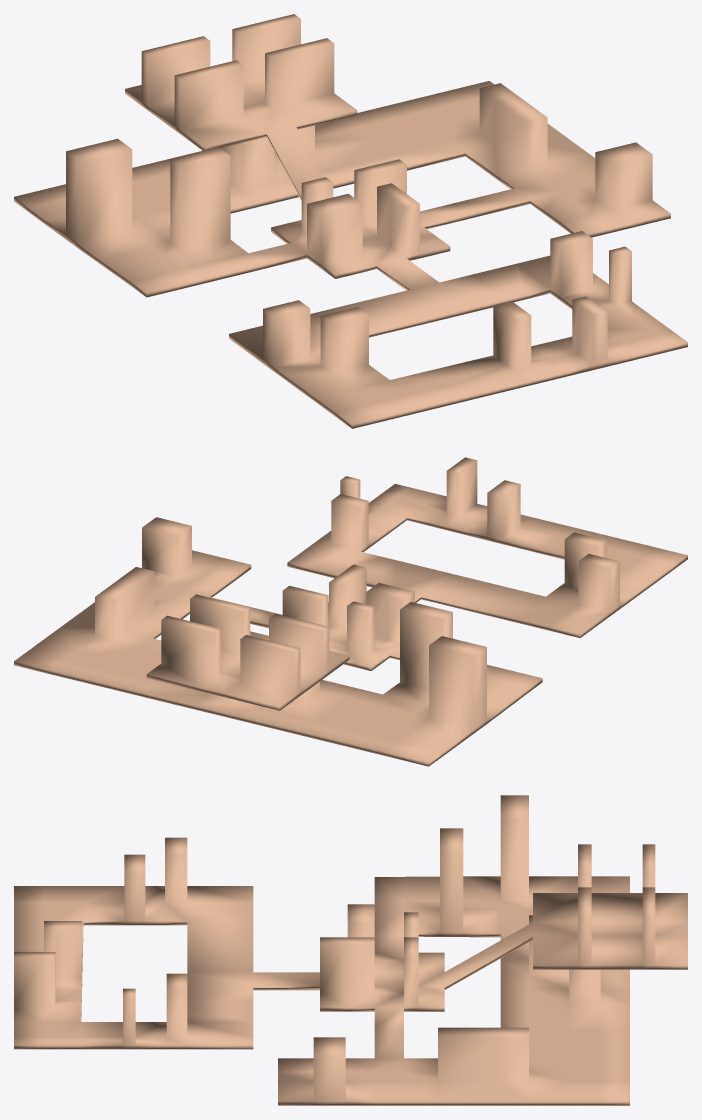
File: Level1.obj
The picture shows the model from 3 angles, top to bottom: view 1: azimuth 30°, elevation 25°; view 2: azimuth 150°, elevation 25°; view 3: azimuth 270°, elevation 25°; orthographic projection. The views are drawn at different scales.
Parts seen in each view (by area): view 1: Box001; view 2: Box001; view 3: Box001.
Part boxes in pixels (x1=…): Box001: x1=14, y1=14, x2=687, y2=428; Box001: x1=14, y1=457, x2=687, y2=766; Box001: x1=14, y1=795, x2=687, y2=1105.
Size of the model in its own units: 302 by 64.48 by 382.
